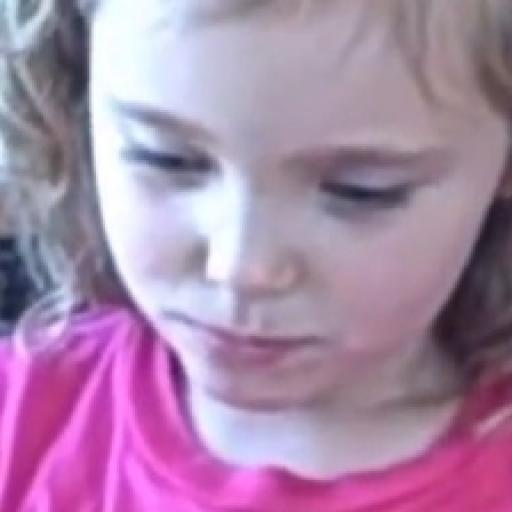Autism: (56, 0, 512, 435)
